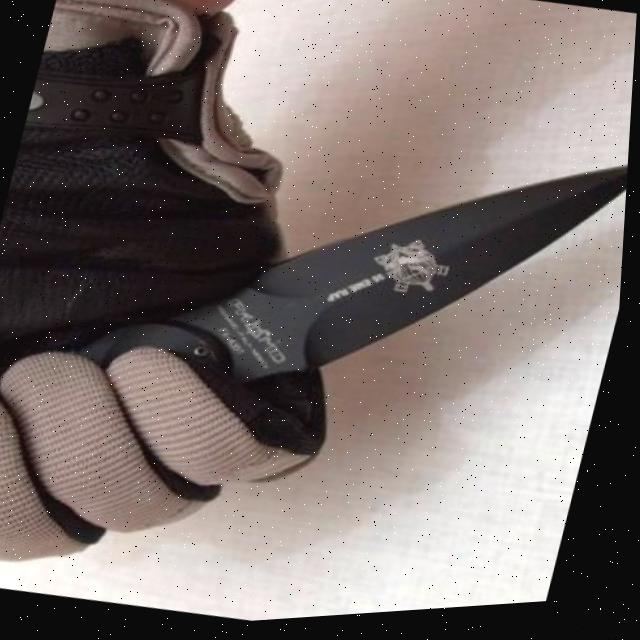knife: (69, 68, 635, 466)
